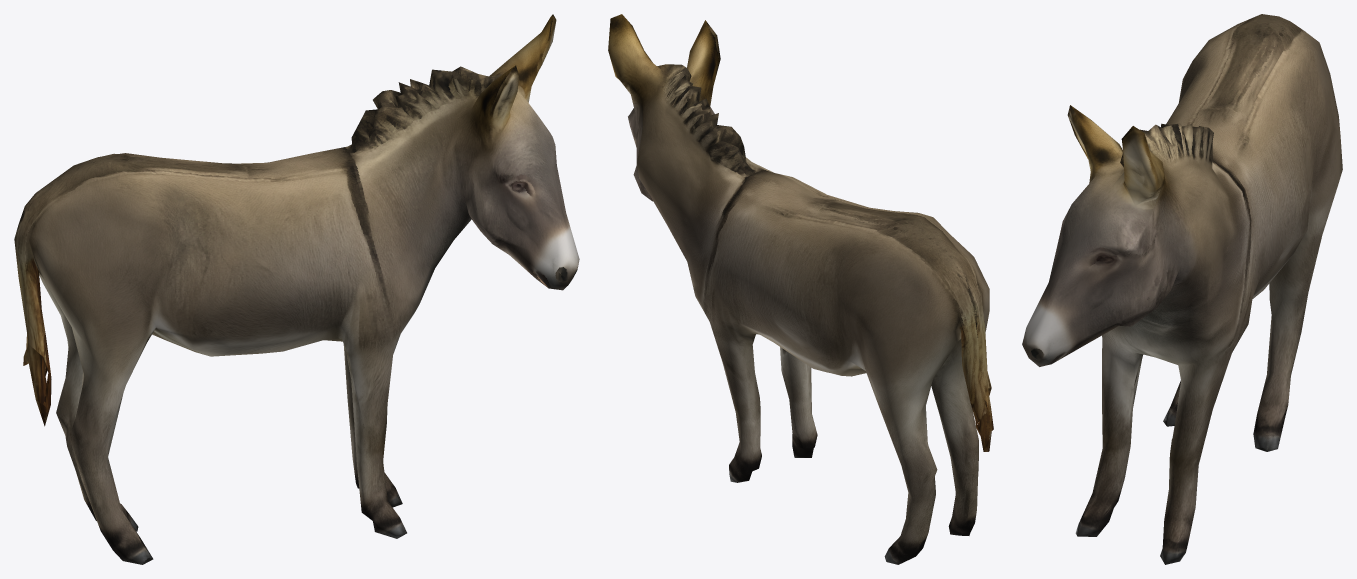
The model's file is donkey_single_1500.glb.
3 renders of one model, left to right at view 1: azimuth 30°, elevation 25°; view 2: azimuth 150°, elevation 25°; view 3: azimuth 270°, elevation 25°, orthographic. The views are drawn at different scales.
Size of the model in its own units: 0.8875 by 0.8405 by 0.4743.
Materials: 1 (1 with a texture image).
